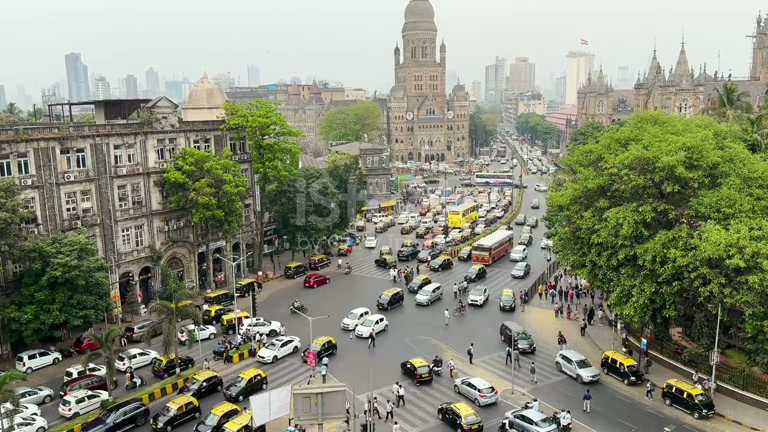bus: (470, 227, 513, 265), (445, 201, 479, 229)
car: (79, 398, 150, 432), (661, 377, 716, 419), (149, 393, 202, 432), (194, 401, 254, 432), (555, 347, 602, 385), (222, 367, 269, 404), (600, 349, 644, 385), (57, 390, 108, 420), (436, 401, 485, 432), (454, 375, 499, 407), (341, 307, 389, 337), (499, 408, 559, 432), (178, 369, 223, 399), (256, 336, 301, 364), (15, 349, 62, 374), (114, 348, 161, 372), (353, 311, 389, 338), (401, 356, 433, 384), (14, 386, 56, 406), (340, 307, 371, 332), (376, 286, 405, 311), (415, 283, 443, 306), (467, 285, 489, 307), (303, 272, 331, 289), (499, 287, 517, 312), (511, 244, 529, 262), (511, 262, 530, 279), (363, 234, 377, 249)
pedestrian: (645, 380, 656, 400), (557, 331, 567, 349)
truck: (287, 381, 355, 432), (661, 376, 716, 419), (600, 349, 645, 385)
